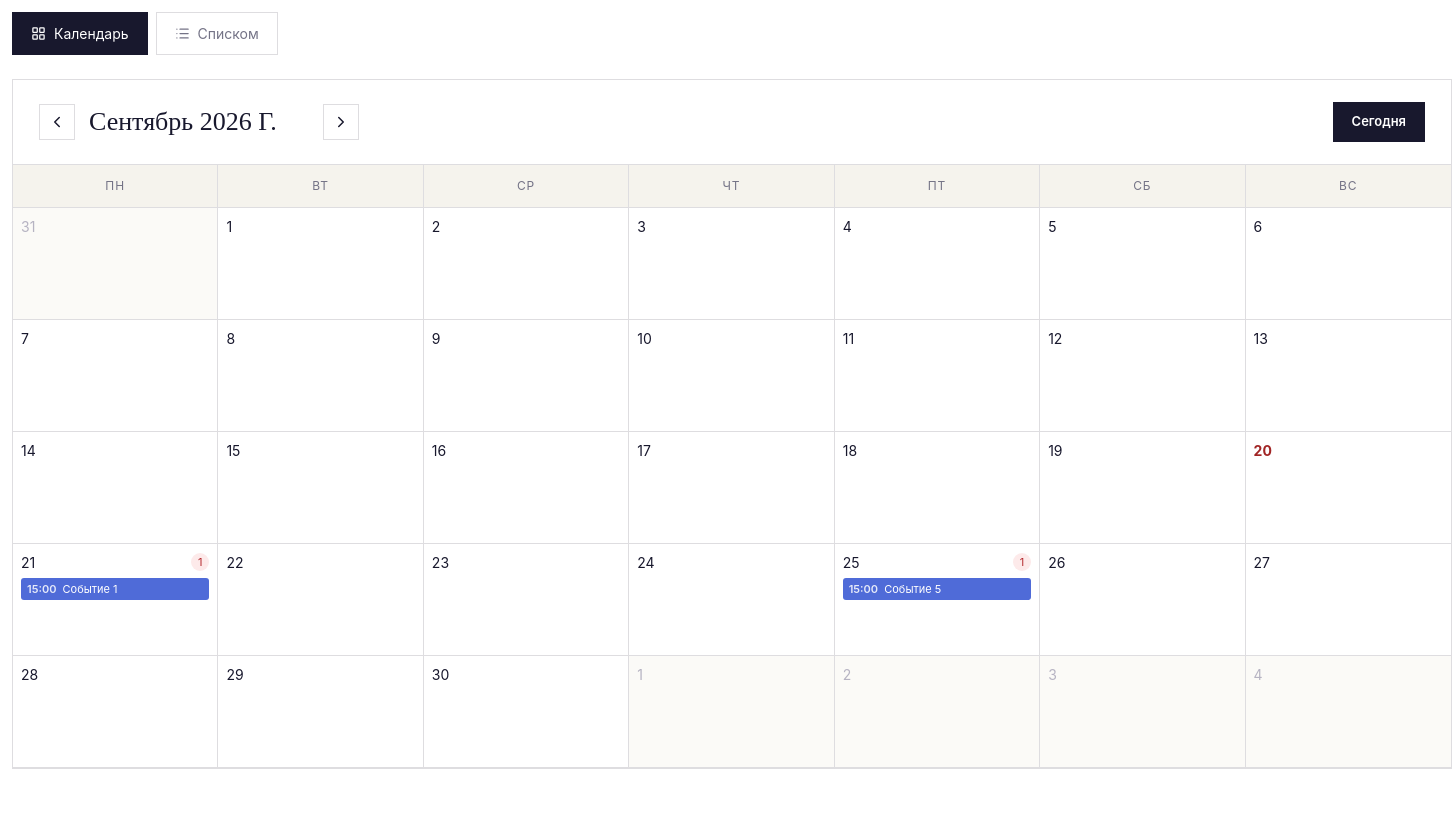
Test: календарь событий › переключается на список
Click the button "Списком": {"x": 217, "y": 34} [156,12,278,55]
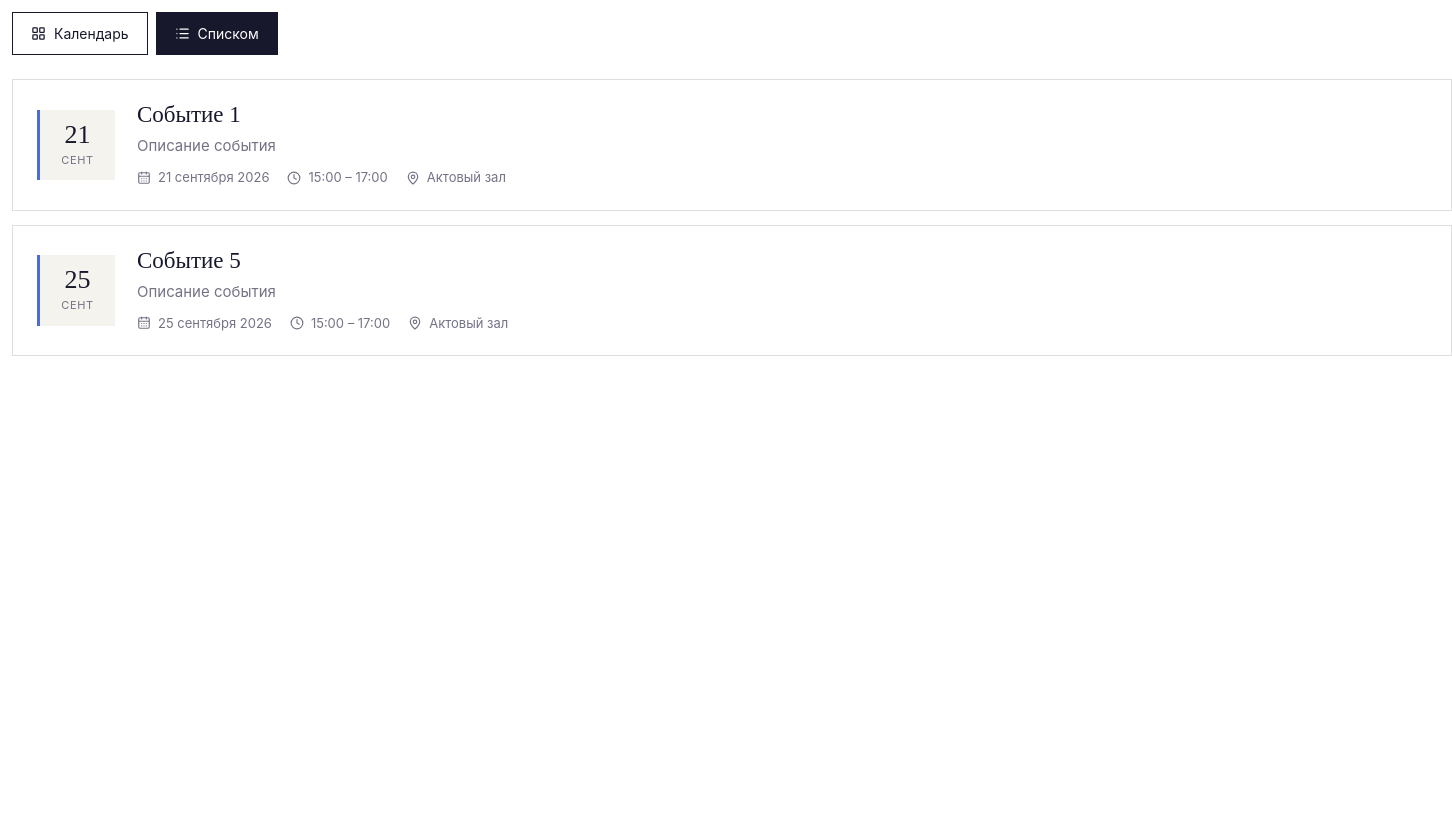
Expected: the number of headings is 2, [137,102,241,127]; [137,248,241,272]
Expected: the text "Актовый зал" in the row of "21 сентября 2026" is shown, [427,169,506,185]
